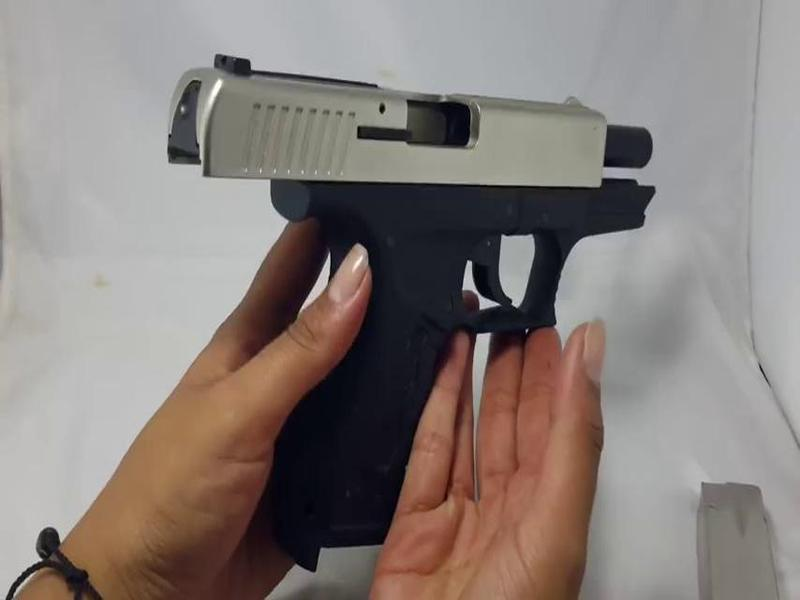Pistola: (173, 49, 687, 543)
